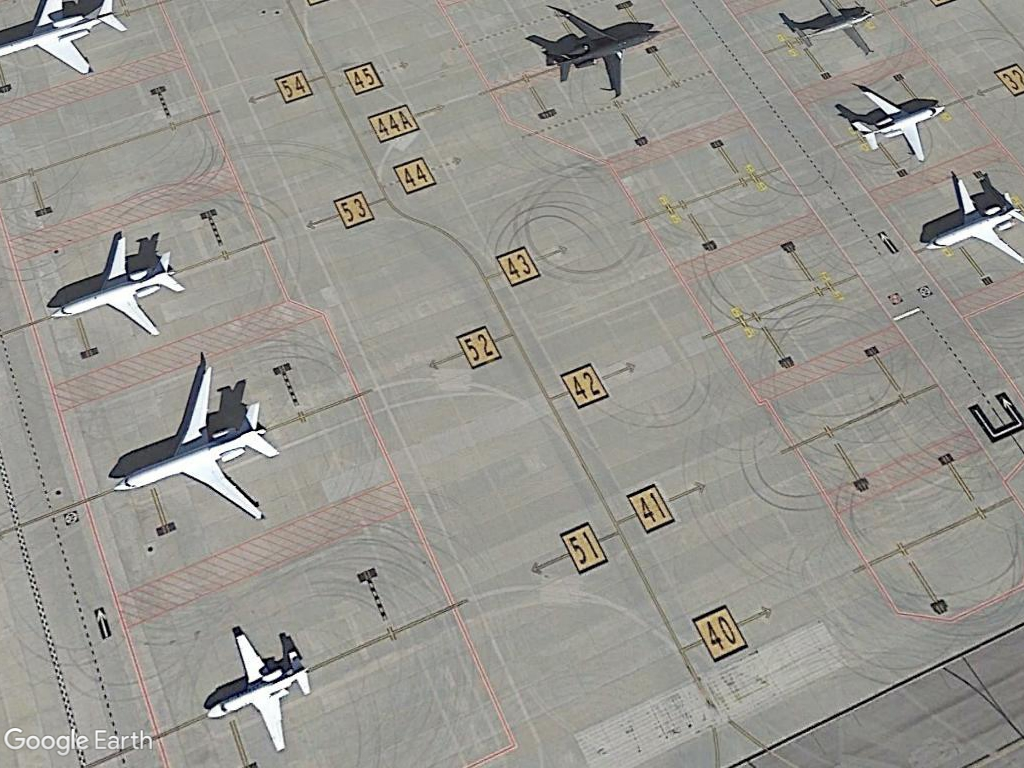chartered: (105, 363, 292, 523), (48, 230, 188, 344), (200, 630, 317, 755), (525, 7, 664, 104), (924, 171, 1024, 282), (843, 85, 950, 166)
